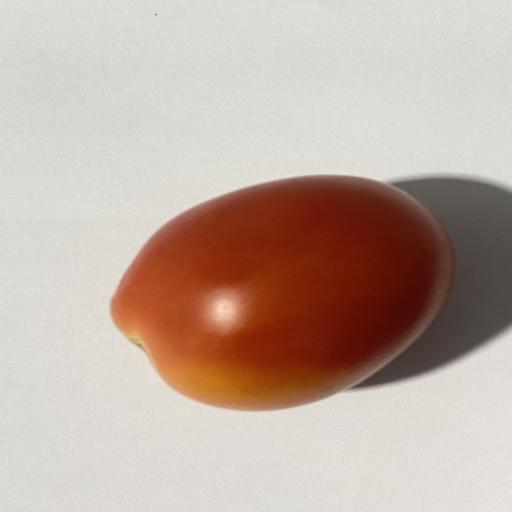ripe: (111, 176, 454, 410)
